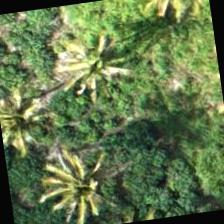Kelapa_Sawit: (46, 11, 148, 113), (14, 129, 117, 223), (0, 63, 58, 160)
